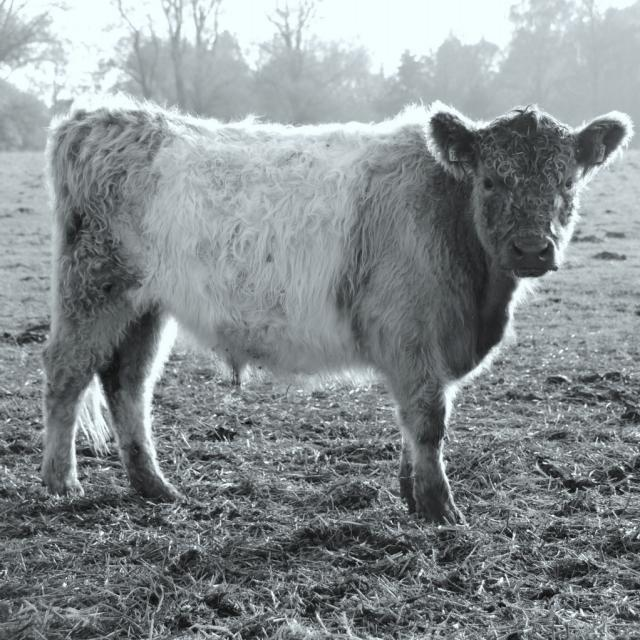Cattle: (39, 90, 636, 531)
